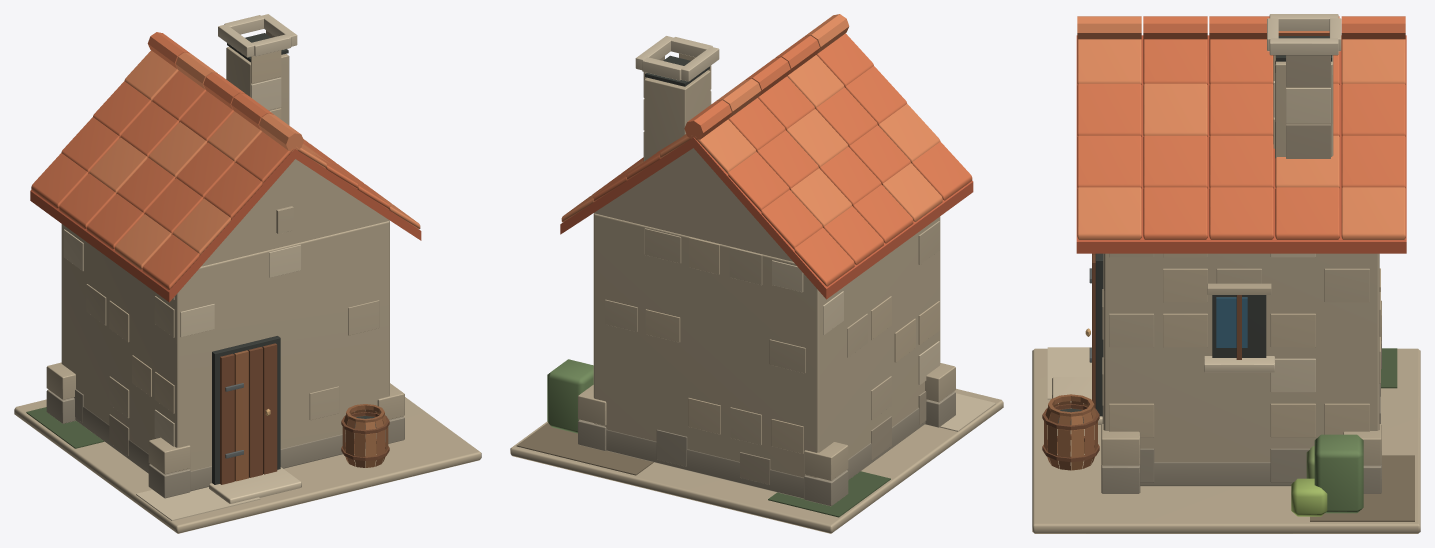
File: house_cottage.glb
3 renders of one model, left to right at view 1: azimuth 30°, elevation 25°; view 2: azimuth 150°, elevation 25°; view 3: azimuth 270°, elevation 25°, orthographic. The views are drawn at different scales.
Parts seen in each view (by area): view 1: house_cottage; view 2: house_cottage; view 3: house_cottage.
Boxes of the visible parts, <box> form: house_cottage: <box>14,14,481,533</box>; house_cottage: <box>510,14,1003,533</box>; house_cottage: <box>1032,14,1420,533</box>.
Bounding box in the file's own units: 1.94 × 2.26 × 1.8.
